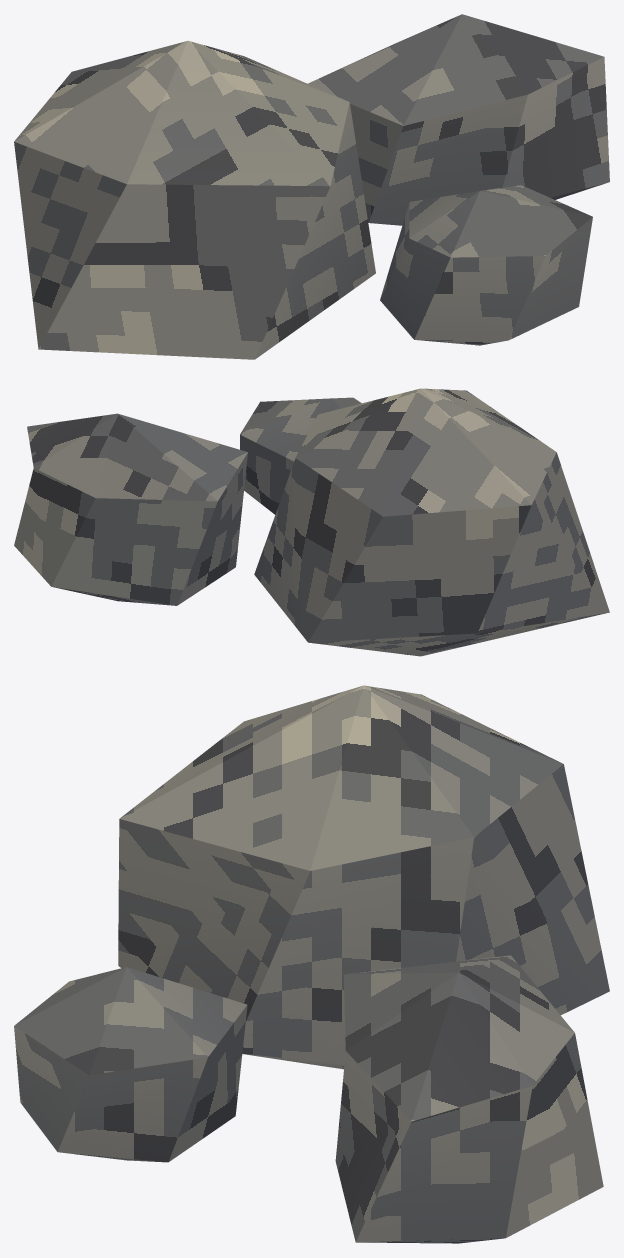
The model's file is mnat.rock__cluster.glb.
3 views of the same model, one above another, from view 1: azimuth 30°, elevation 25°; view 2: azimuth 150°, elevation 25°; view 3: azimuth 270°, elevation 25° (orthographic). The views are drawn at different scales.
Visible parts, largest first — view 1: kit_rock; view 2: kit_rock; view 3: kit_rock.
Part boxes in pixels (x1,y1,x2,y2): kit_rock: [14, 14, 609, 359]; kit_rock: [14, 388, 609, 656]; kit_rock: [14, 685, 609, 1243].
Size of the model in its own units: 1.89 by 0.9 by 1.26.
1 material, 1 textured.
